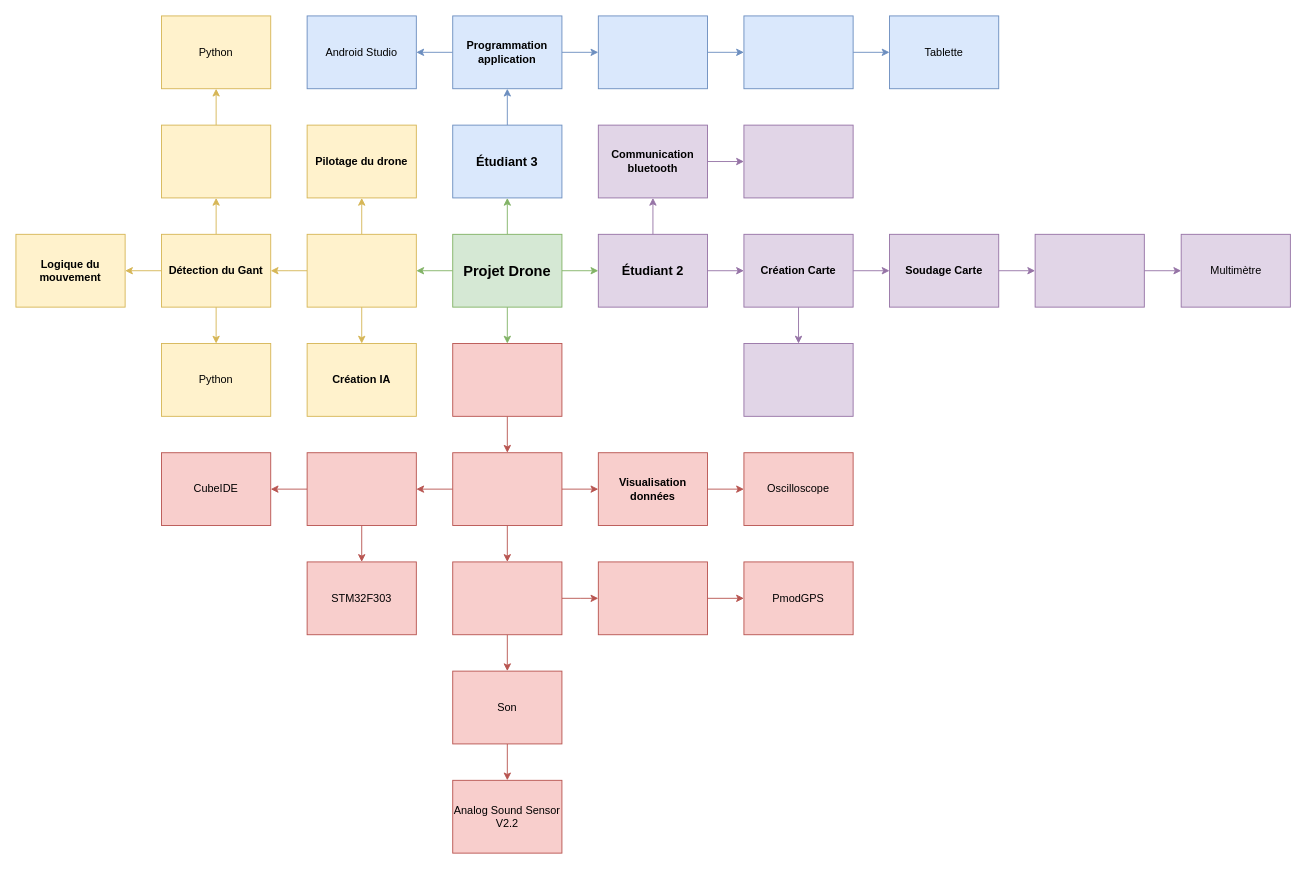
Some shapes in this 1307 by 869 pixel diagram are drawn without their labels. Here are the shapes that lost their labels. From the top down, the centre of each, then its label:
At point 652,52: "Récupération des données via bluetooth".
At point 798,52: "Affichage des données".
At point 216,161: "Récupération des images".
At point 798,161: "HC05".
At point 361,270: "Étudiant 4".
At point 1089,270: "Test de continuité".
At point 507,379: "Étudiant 1".
At point 798,379: "KiCad".
At point 361,489: "Programmation carte".
At point 507,489: "Instrumentation Carte".
At point 507,598: "Capteurs".
At point 652,598: "GPS".
